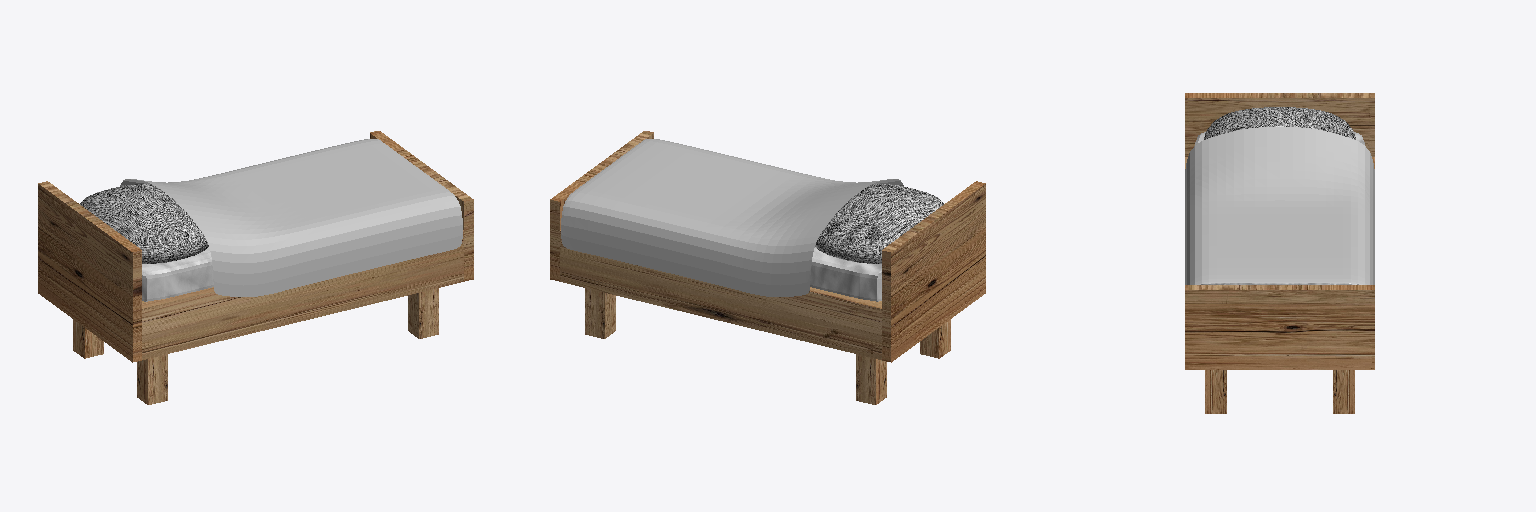
3 views of the same model, side by side, from view 1: azimuth 30°, elevation 25°; view 2: azimuth 150°, elevation 25°; view 3: azimuth 270°, elevation 25° (orthographic).
Parts seen in each view (by area): view 1: Plane.003, Cube, Plane.002, Cube.001, Plane.001; view 2: Plane.003, Cube, Plane.002, Cube.001, Plane.001; view 3: Plane.003, Cube, Plane.002, Cube.001.
Part boxes in pixels (bbox=[...]): Plane.003: bbox=[120, 139, 462, 296]; Cube: bbox=[38, 131, 473, 362]; Plane.002: bbox=[80, 184, 208, 263]; Cube.001: bbox=[73, 288, 438, 404]; Plane.001: bbox=[142, 247, 213, 301]; Plane.003: bbox=[561, 139, 903, 296]; Cube: bbox=[550, 131, 985, 362]; Plane.002: bbox=[815, 184, 943, 263]; Cube.001: bbox=[585, 288, 950, 404]; Plane.001: bbox=[810, 247, 881, 301]; Plane.003: bbox=[1185, 127, 1374, 284]; Cube: bbox=[1185, 93, 1374, 369]; Plane.002: bbox=[1204, 107, 1355, 139]; Cube.001: bbox=[1205, 370, 1354, 413].
Size of the model in its own units: 4.37 by 2.12 by 2.11.
4 materials, 3 textured.